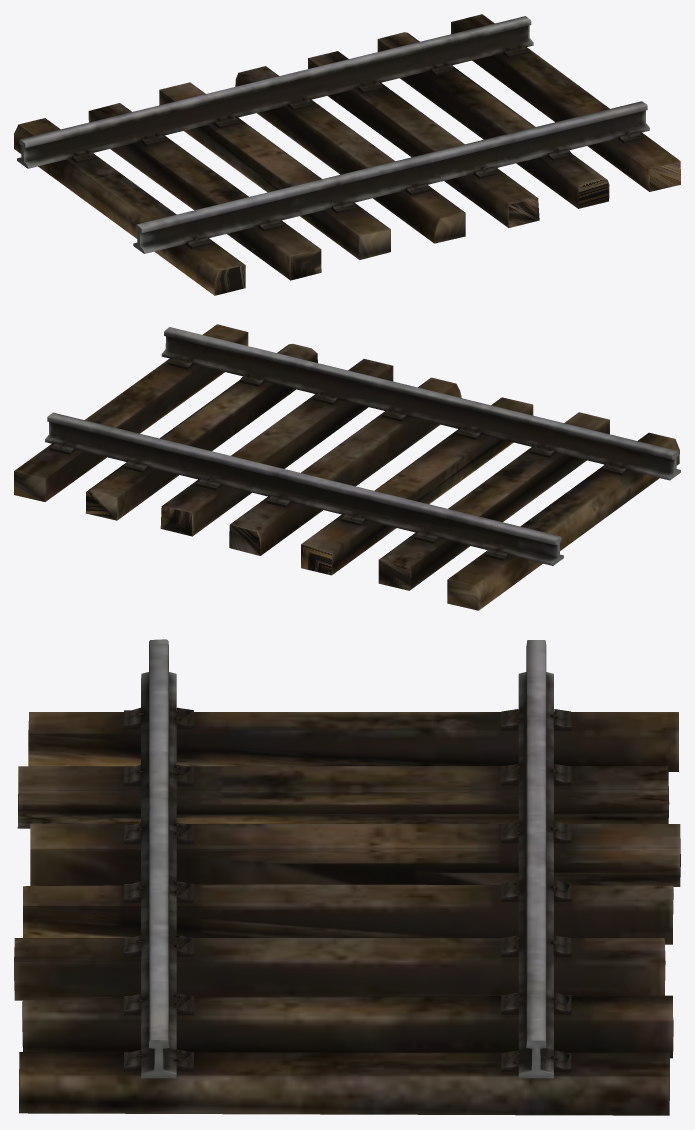
File: rail-track.lod0.glb
The picture shows the model from 3 angles, top to bottom: view 1: azimuth 30°, elevation 25°; view 2: azimuth 150°, elevation 25°; view 3: azimuth 270°, elevation 25°; orthographic projection. The views are drawn at different scales.
Visible parts, largest first — view 1: railroad_gav_railroad_gav_0; view 2: railroad_gav_railroad_gav_0; view 3: railroad_gav_railroad_gav_0.
Boxes of the visible parts, left/top/right/bottom form: railroad_gav_railroad_gav_0: left=14, top=14, right=680, bottom=295; railroad_gav_railroad_gav_0: left=14, top=324, right=680, bottom=610; railroad_gav_railroad_gav_0: left=14, top=639, right=680, bottom=1115.
Bounding box in the file's own units: 4 × 0.3716 × 2.82.
1 material, 1 textured.
